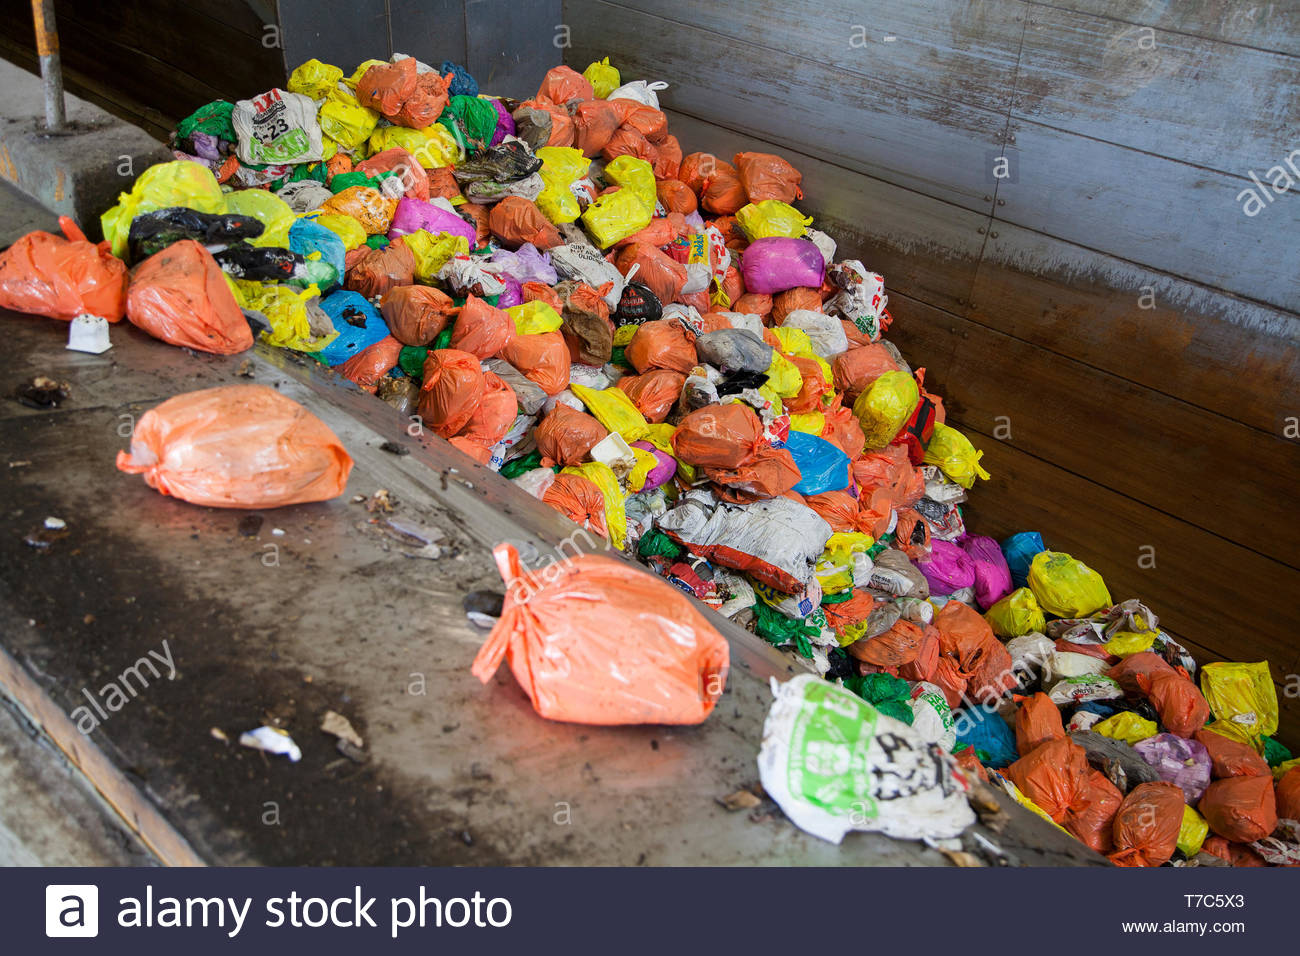plastic_bag: (466, 535, 730, 729), (107, 373, 356, 524)
